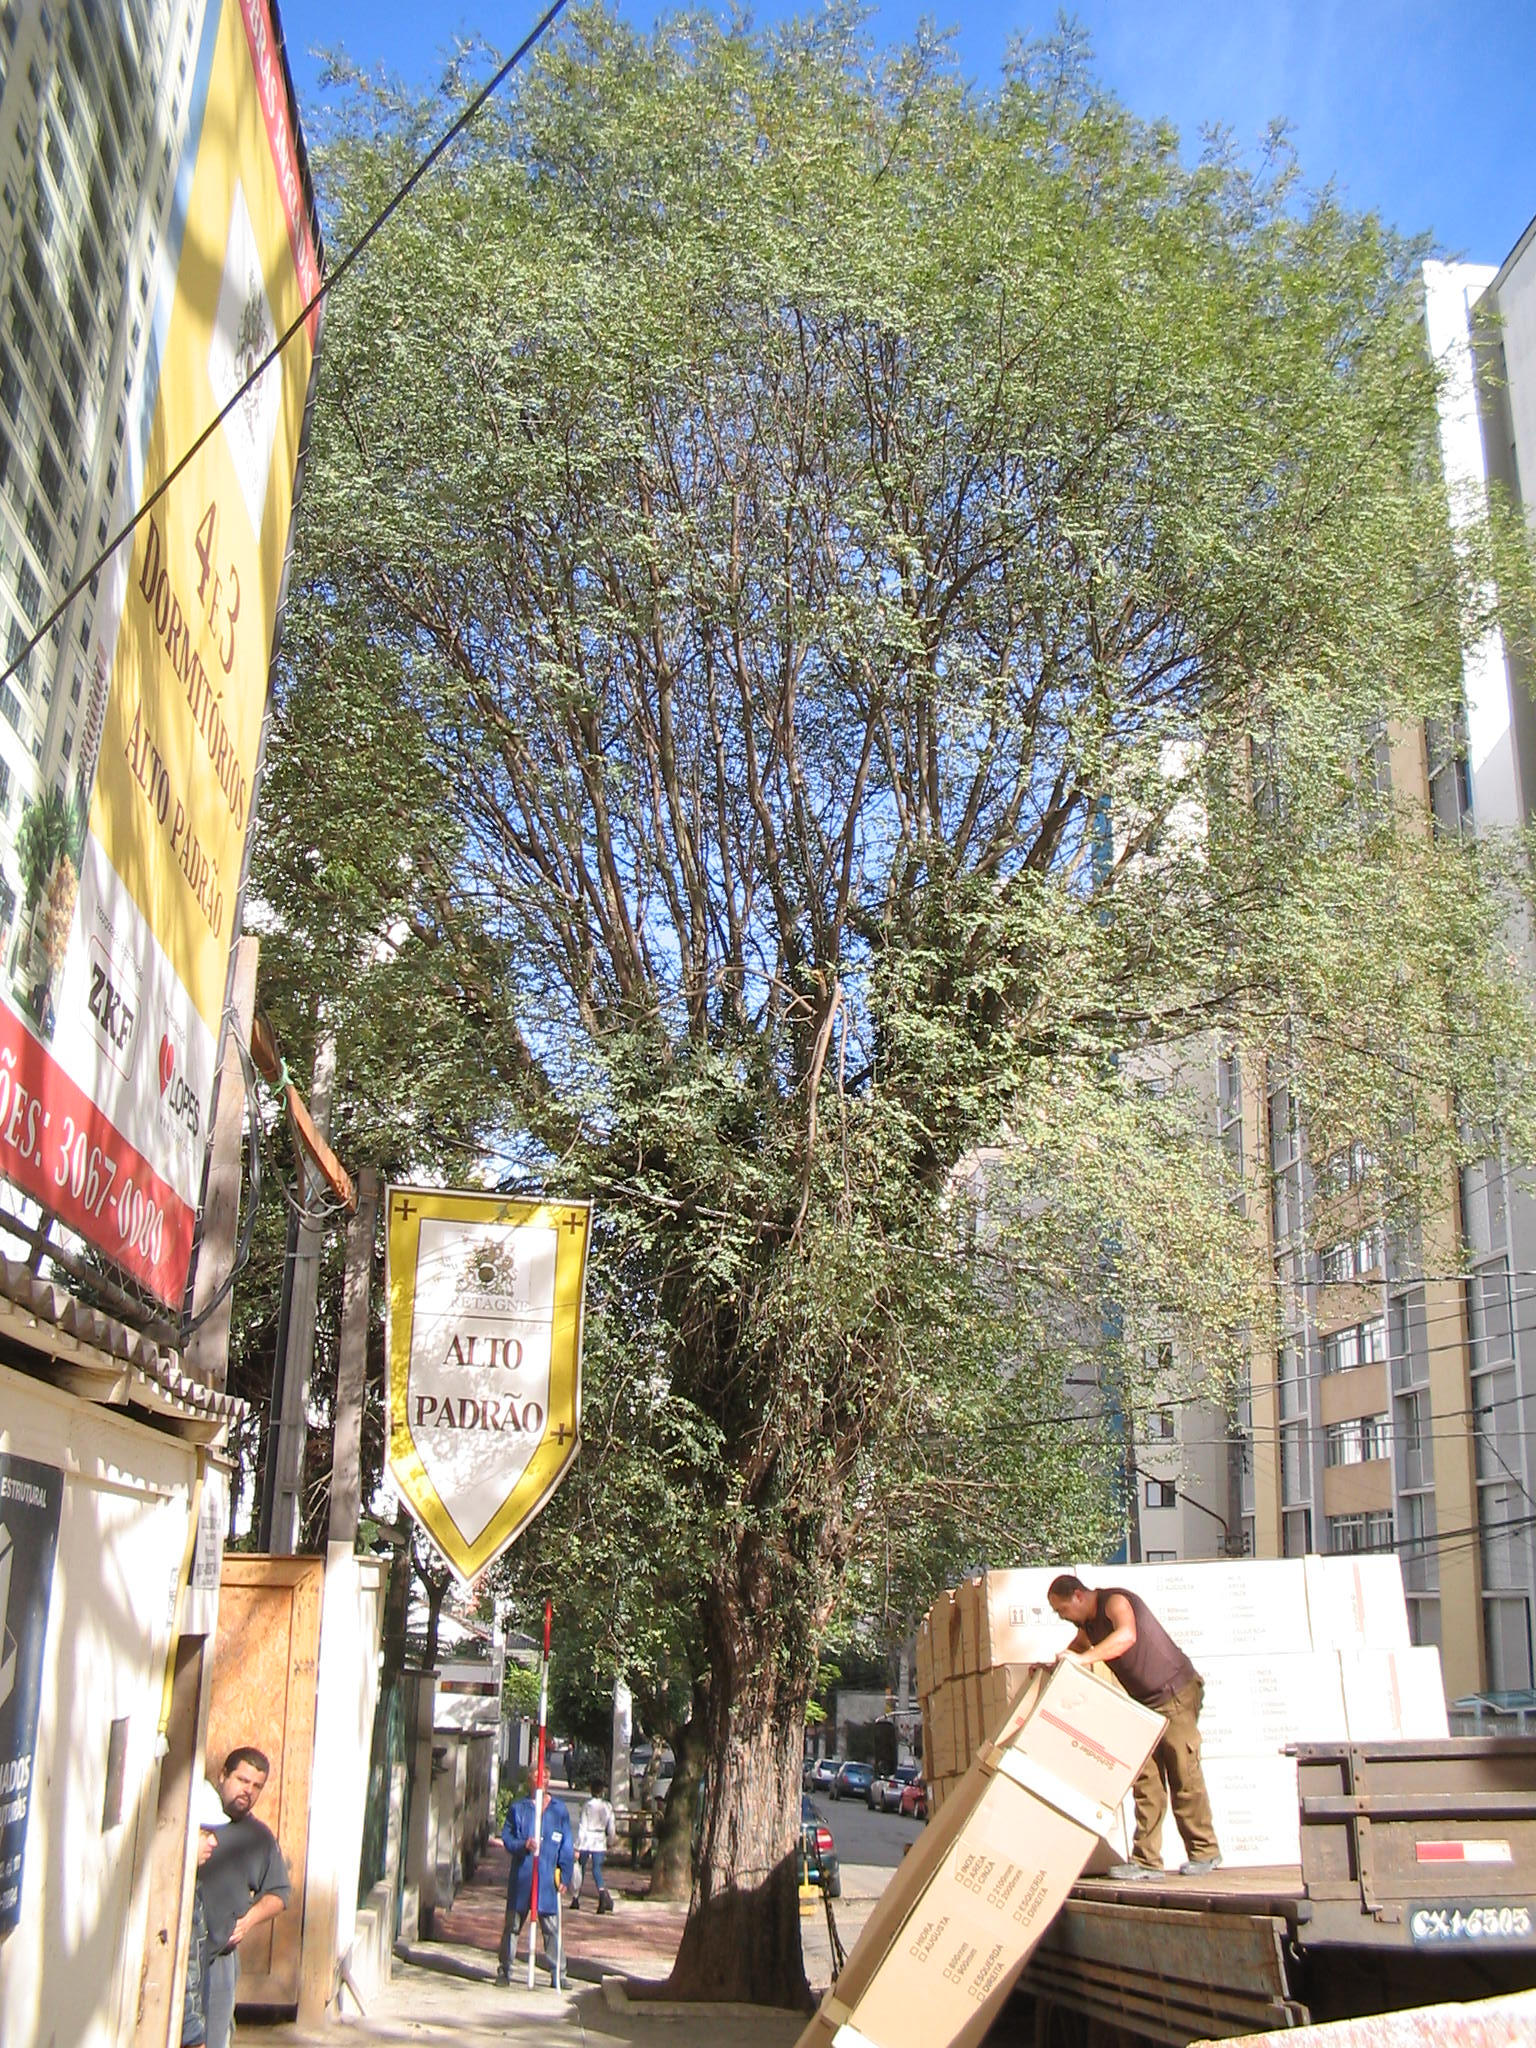crown: (286, 8, 1521, 1617)
stem: (641, 1605, 837, 2004)
stick: (511, 1596, 578, 1987)
tree: (274, 5, 1528, 2011)
